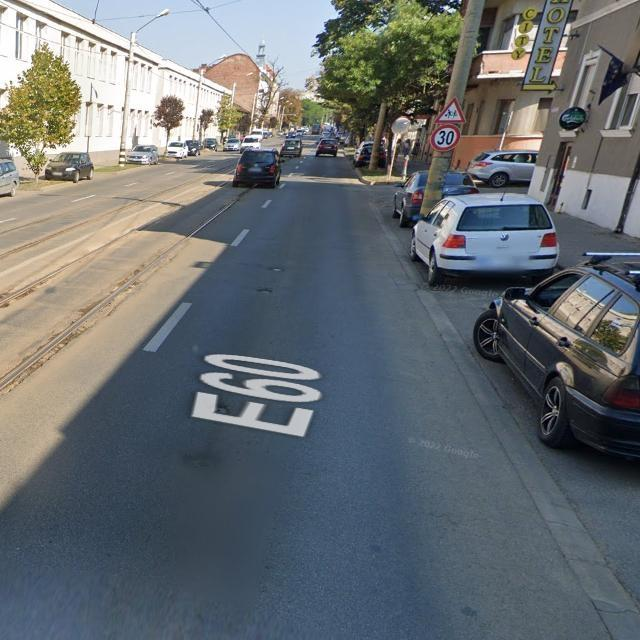forb_speed_over_30: (431, 125, 460, 150)
